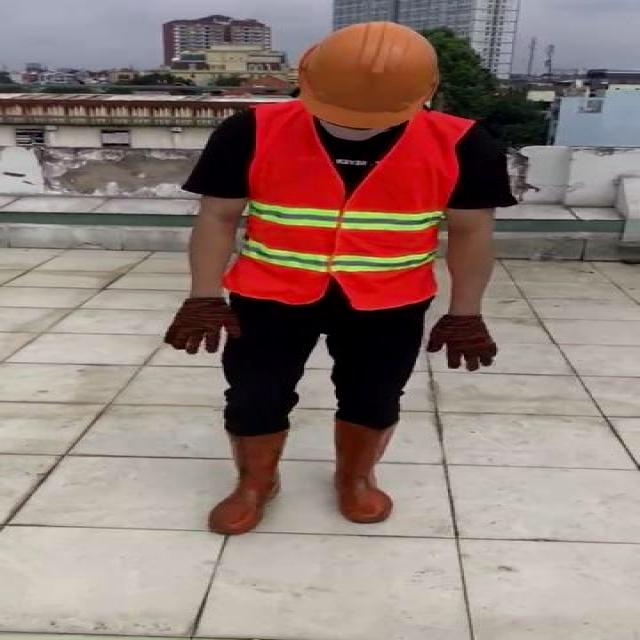boots: (208, 428, 290, 536), (327, 419, 407, 523)
hand_glove: (164, 296, 236, 354), (426, 314, 499, 370)
head_helmet: (154, 17, 527, 549), (301, 17, 449, 128)
vest: (222, 104, 473, 307)
